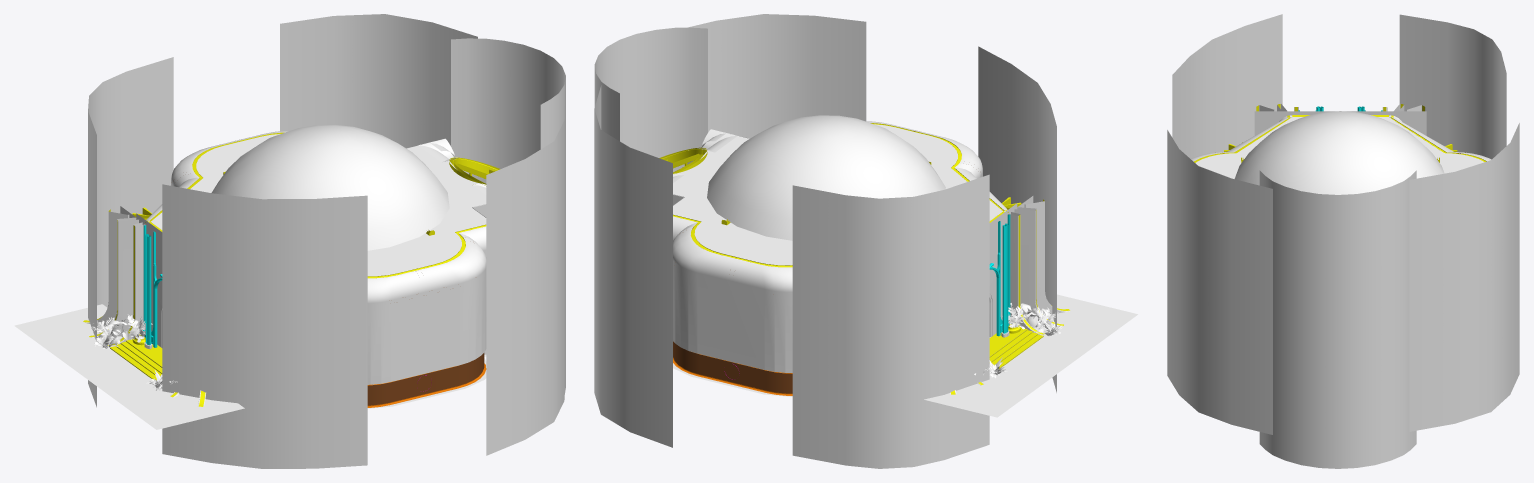
Rendered from wakanda_scene_09_draco.glb.
3 views of the same model, side by side, from view 1: azimuth 30°, elevation 25°; view 2: azimuth 150°, elevation 25°; view 3: azimuth 270°, elevation 25° (orthographic). The views are drawn at different scales.
Visible parts, largest first — view 1: BG_Back_L, BG_Top, Hall_Wall_R, Entrance_Ground, Hall_Ceiling, Entrance_Pillar_R_03, Hall_Wall_Patterns_R, Entrance_Gold_Ornament_L, Entrance_Vase_R, Entrance_Outside_Wall, Hall_Wall_L, Hall_Garden_Window; view 2: BG_Back_L, BG_Top, Hall_Wall_L, Entrance_Ground, Hall_Ceiling, Entrance_Pillar_R_03, Hall_Wall_Patterns_L, Entrance_Gold_Ornament_L, Entrance_Outside_Wall, Entrance_Vase_R, Hall_Wall_R, Hall_Garden_Window; view 3: BG_Back_L, BG_Top, Hall_Ceiling, Entrance_Outside_Wall.
Boxes of the visible parts, x1,y1,x2,y2 form: BG_Back_L: (88, 14, 565, 468); BG_Top: (211, 125, 449, 250); Hall_Wall_R: (367, 226, 486, 384); Entrance_Ground: (14, 304, 244, 429); Hall_Ceiling: (151, 134, 486, 276); Entrance_Pillar_R_03: (83, 209, 205, 406); Hall_Wall_Patterns_R: (367, 238, 484, 405); Entrance_Gold_Ornament_L: (143, 225, 162, 347); Entrance_Vase_R: (110, 334, 162, 380); Entrance_Outside_Wall: (120, 206, 162, 347); Hall_Wall_L: (146, 130, 289, 220); Hall_Garden_Window: (449, 157, 500, 185); BG_Back_L: (594, 14, 1056, 468); BG_Top: (707, 115, 945, 240); Hall_Wall_L: (673, 216, 792, 372); Entrance_Ground: (924, 294, 1137, 417); Hall_Ceiling: (673, 124, 1002, 265); Entrance_Pillar_R_03: (950, 199, 1069, 394); Hall_Wall_Patterns_L: (673, 227, 792, 393); Entrance_Gold_Ornament_L: (989, 214, 1010, 336); Entrance_Outside_Wall: (989, 196, 1033, 337); Entrance_Vase_R: (989, 324, 1043, 368); Hall_Wall_R: (866, 121, 1007, 210); Hall_Garden_Window: (659, 147, 707, 173); BG_Back_L: (1167, 14, 1519, 468); BG_Top: (1234, 111, 1444, 194); Hall_Ceiling: (1195, 117, 1484, 178); Entrance_Outside_Wall: (1254, 111, 1426, 135).
Bounding box in the file's own units: 87.04 × 55.64 × 64.85.
